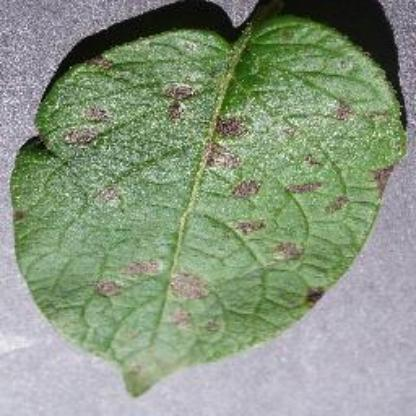Early-Blight: (9, 19, 408, 397)
